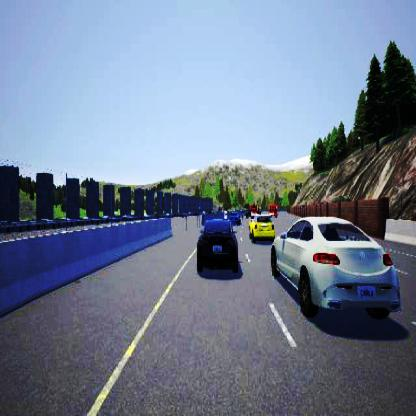vehicle: (270, 204, 400, 320), (196, 212, 240, 272), (248, 210, 276, 242)
